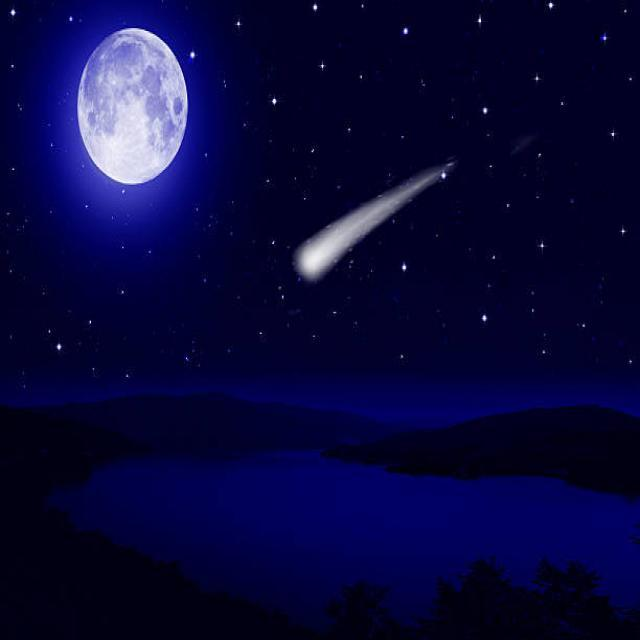moon: (80, 28, 188, 186)
